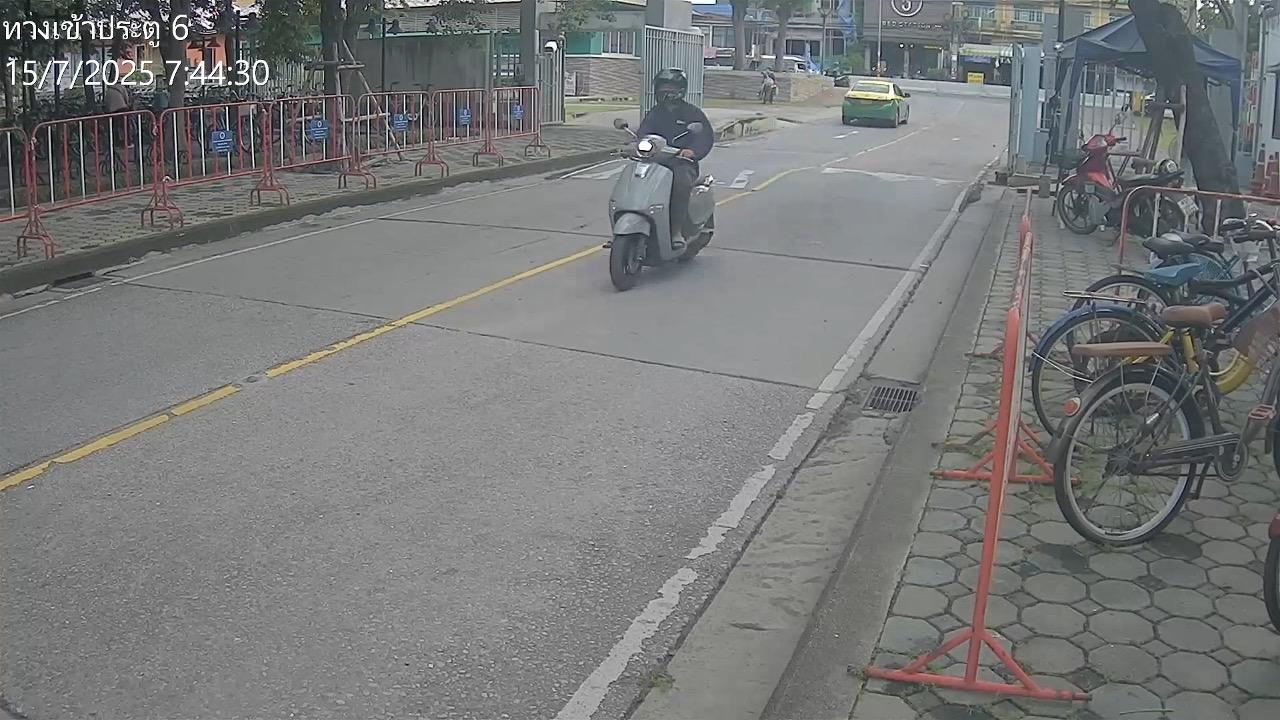With-Helmet: (652, 67, 690, 103)
